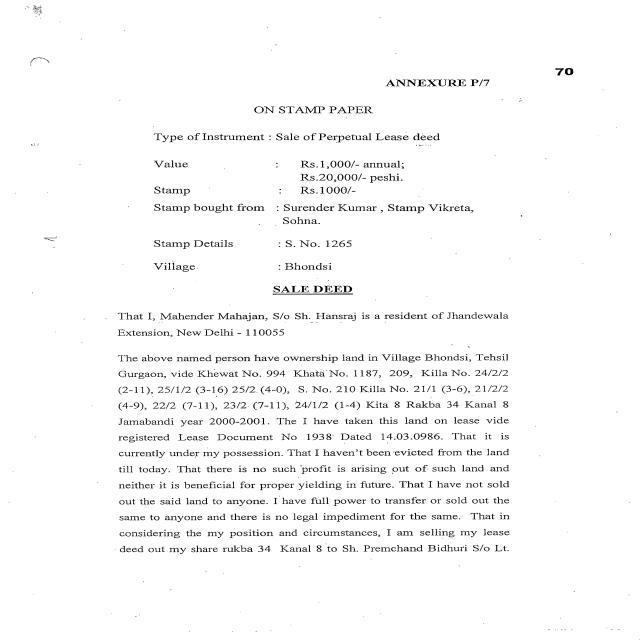page-number: (490, 23, 640, 127)
